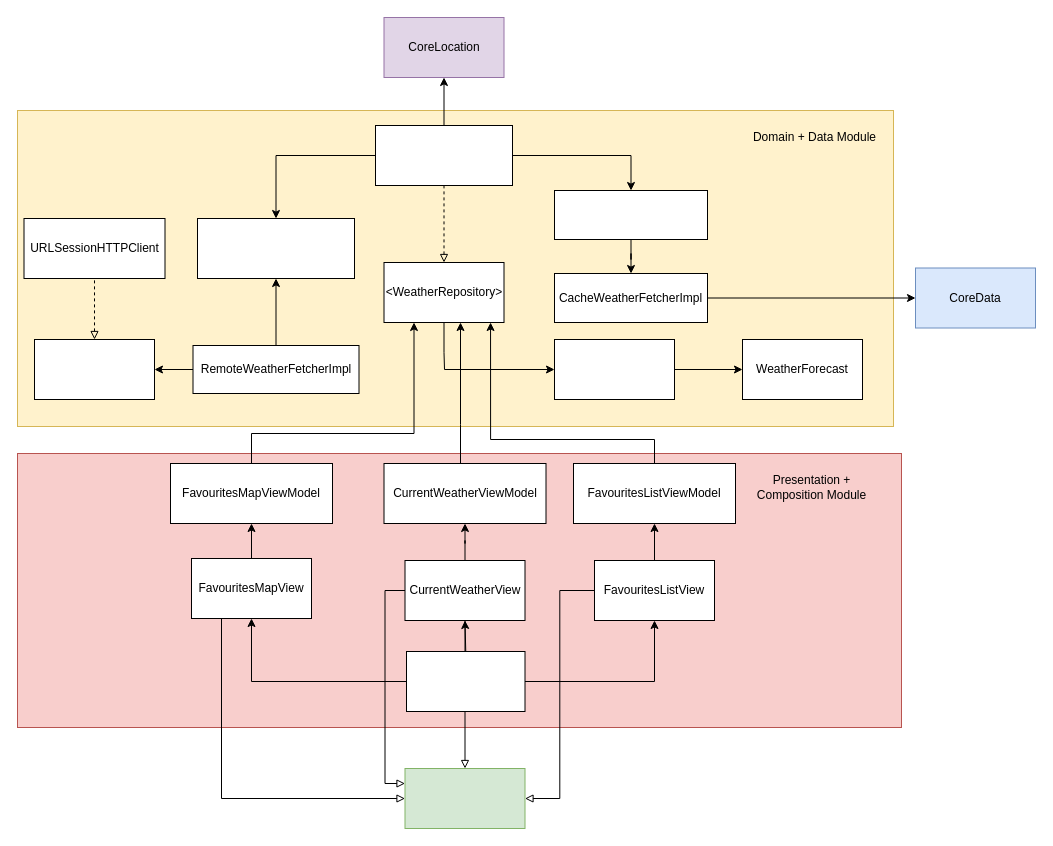
This 1053x846 diagram has some shape labels left out. Each missing label, with the centre of its shape:
"<CacheWeatherFetcher>" goes at point (631, 215).
"<HTTPClient>" goes at point (94, 369).
"<RemoteWeatherFetcher>" goes at point (275, 248).
"MainView" goes at point (465, 681).
"SwiftUI" goes at point (464, 798).
"WeatherInformation" goes at point (614, 369).
"WeatherRepositoryImpl" goes at point (443, 155).
